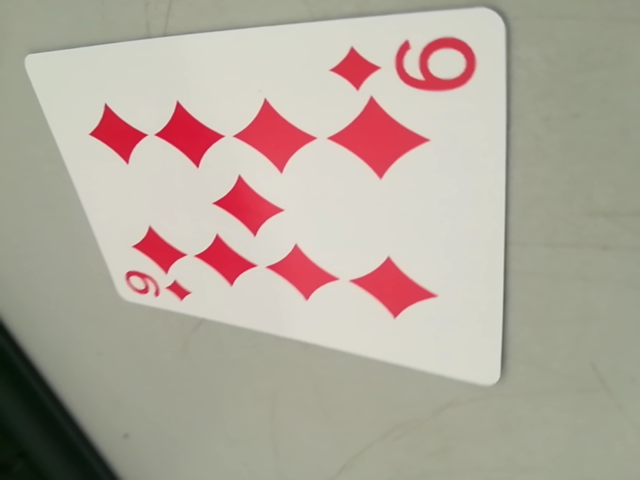fk 9: (335, 26, 482, 104), (118, 265, 199, 309)
